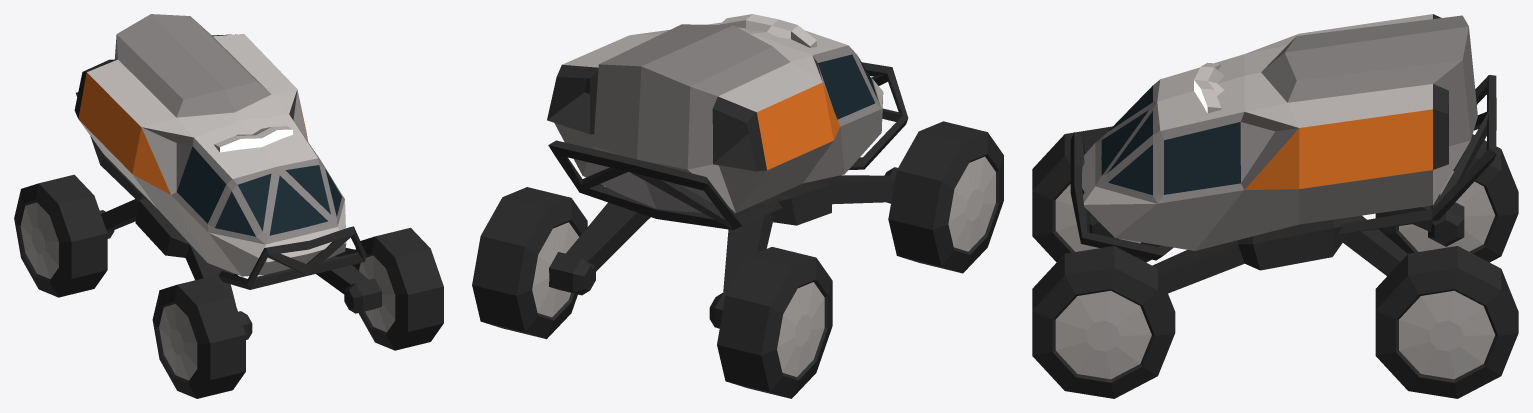
Rendered from scifi-buggy.glb.
3 views of the same model, side by side, from view 1: azimuth 30°, elevation 25°; view 2: azimuth 150°, elevation 25°; view 3: azimuth 270°, elevation 25° (orthographic). The views are drawn at different scales.
Parts seen in each view (by area): view 1: scifi-buggy-cabin, scifi-buggy-wheel_FR, scifi-buggy-wheel_BR, scifi-buggy-wheel_FL, scifi-buggy-chassis; view 2: scifi-buggy-cabin, scifi-buggy-chassis, scifi-buggy-wheel_BR, scifi-buggy-wheel_FR, scifi-buggy-wheel_BL; view 3: scifi-buggy-cabin, scifi-buggy-wheel_BL, scifi-buggy-wheel_FL, scifi-buggy-chassis, scifi-buggy-wheel_BR, scifi-buggy-wheel_FR.
Boxes of the visible parts, <box> form: scifi-buggy-cabin: <box>74,14,346,276</box>; scifi-buggy-wheel_FR: <box>152,276,252,398</box>; scifi-buggy-wheel_BR: <box>14,174,114,297</box>; scifi-buggy-wheel_FL: <box>344,227,443,350</box>; scifi-buggy-chassis: <box>76,92,368,304</box>; scifi-buggy-cabin: <box>547,14,883,213</box>; scifi-buggy-chassis: <box>548,62,908,292</box>; scifi-buggy-wheel_BR: <box>709,247,832,398</box>; scifi-buggy-wheel_FR: <box>884,121,1003,273</box>; scifi-buggy-wheel_BL: <box>472,187,595,339</box>; scifi-buggy-cabin: <box>1082,14,1477,250</box>; scifi-buggy-wheel_BL: <box>1375,246,1518,398</box>; scifi-buggy-wheel_FL: <box>1032,246,1175,398</box>; scifi-buggy-chassis: <box>1070,75,1496,293</box>; scifi-buggy-wheel_BR: <box>1375,134,1518,262</box>; scifi-buggy-wheel_FR: <box>1032,126,1159,262</box>.
Size of the model in its own units: 4.05 by 3.88 by 5.66.
Materials: 1 (1 with a texture image).
